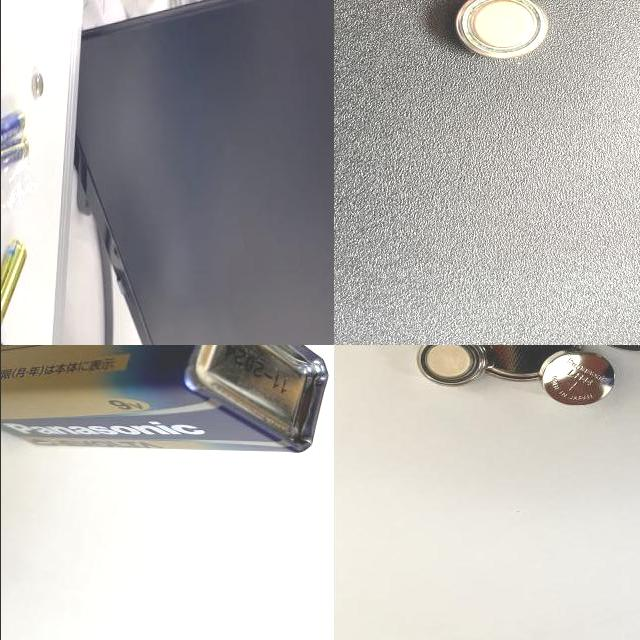9V: (0, 345, 331, 454)
